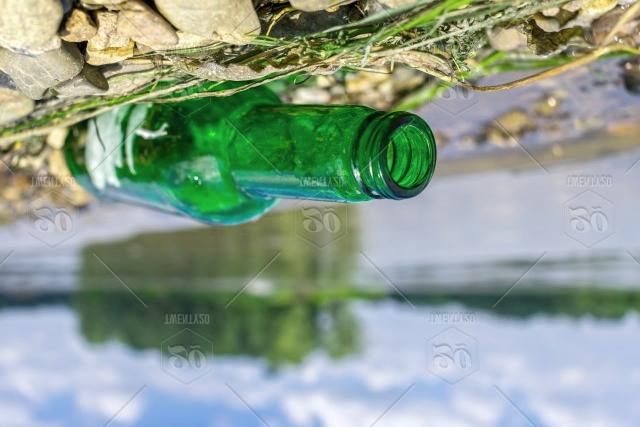Glass: (60, 80, 442, 230)
